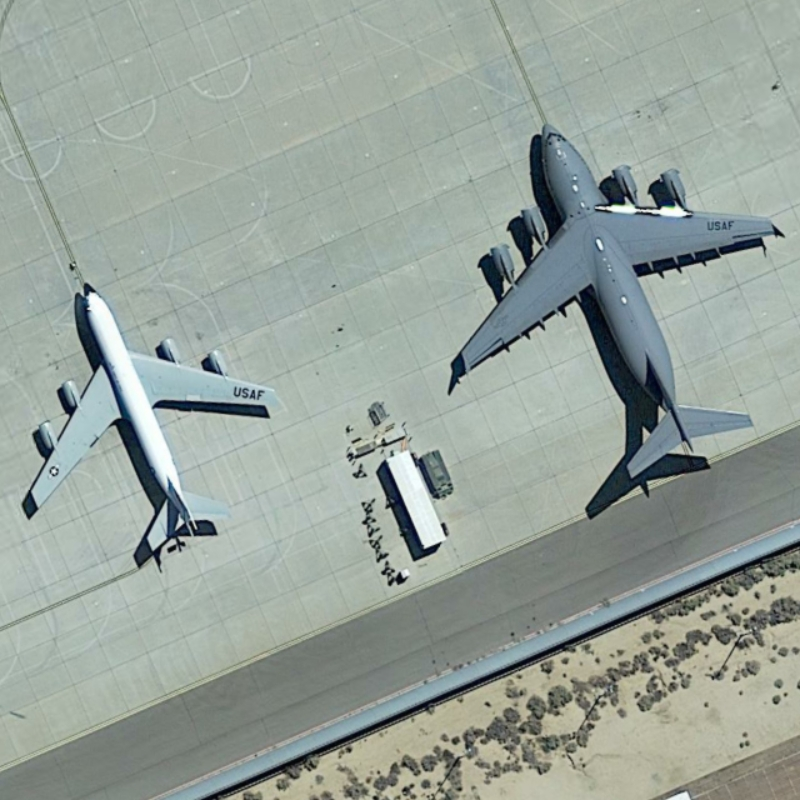A11: (18, 270, 281, 568)
A3: (444, 105, 793, 488)
